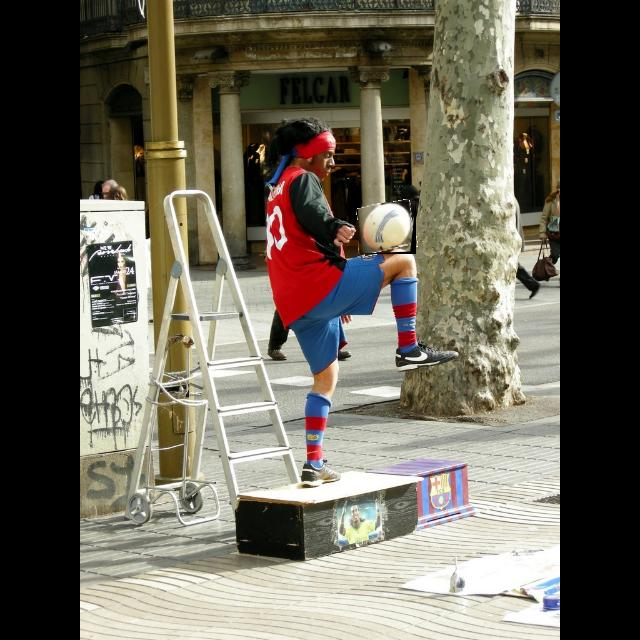Football: (358, 202, 416, 254)
